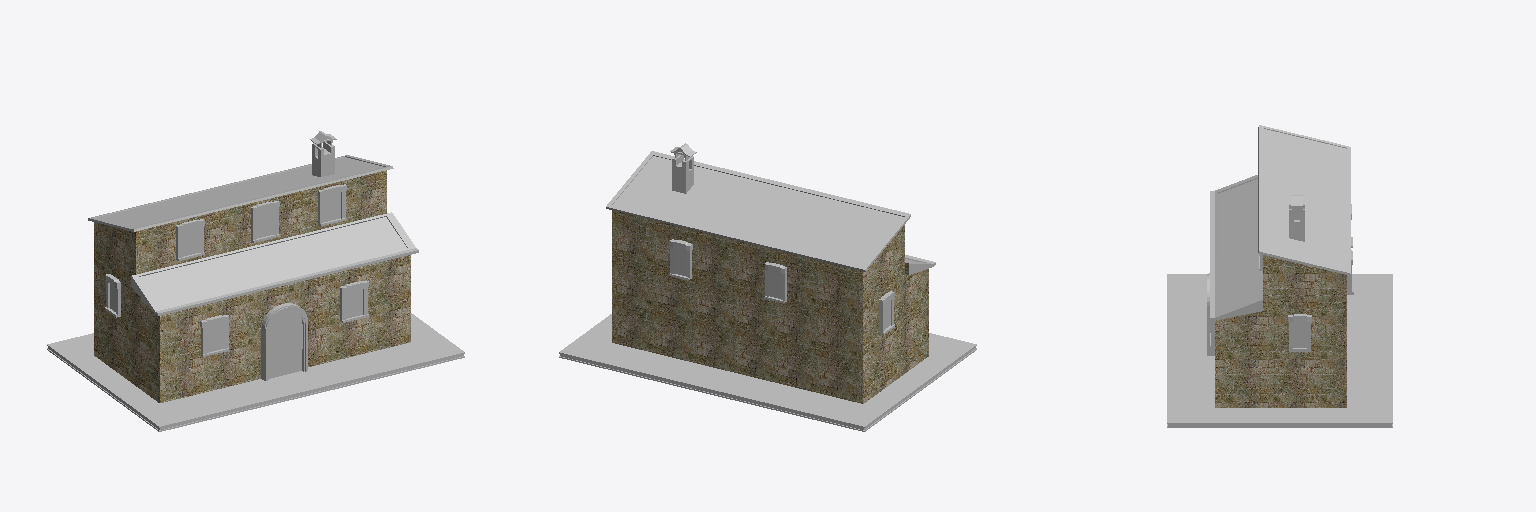
3 views of the same model, side by side, from view 1: azimuth 30°, elevation 25°; view 2: azimuth 150°, elevation 25°; view 3: azimuth 270°, elevation 25° (orthographic).
Visible parts, largest first — view 1: structure, floor, door, pCube2422, pCube2421, pCube77, pCube76, pCube75, chimney, pCube2420; view 2: structure, floor, chimney, pCube2418, pCube2419, pCube2420; view 3: structure, floor, pCube82, chimney.
Part boxes in pixels (bbox=[...]): structure: bbox=[88, 155, 418, 402]; floor: bbox=[47, 313, 464, 431]; door: bbox=[261, 303, 307, 380]; pCube2422: bbox=[340, 280, 368, 322]; pCube2421: bbox=[200, 315, 228, 356]; pCube77: bbox=[251, 201, 279, 242]; pCube76: bbox=[318, 184, 346, 226]; pCube75: bbox=[176, 219, 204, 260]; chimney: bbox=[310, 131, 336, 176]; pCube2420: bbox=[105, 274, 120, 317]; structure: bbox=[606, 151, 935, 403]; floor: bbox=[559, 314, 976, 431]; chimney: bbox=[670, 143, 696, 193]; pCube2418: bbox=[669, 239, 692, 280]; pCube2419: bbox=[764, 262, 786, 303]; pCube2420: bbox=[879, 291, 894, 334]; structure: bbox=[1210, 125, 1350, 407]; floor: bbox=[1167, 274, 1392, 427]; pCube82: bbox=[1288, 314, 1311, 351]; chimney: bbox=[1289, 195, 1304, 241].
Bounding box in the file's own units: 0.4644 × 0.2836 × 0.2962.
Materials: 6 (1 with a texture image).